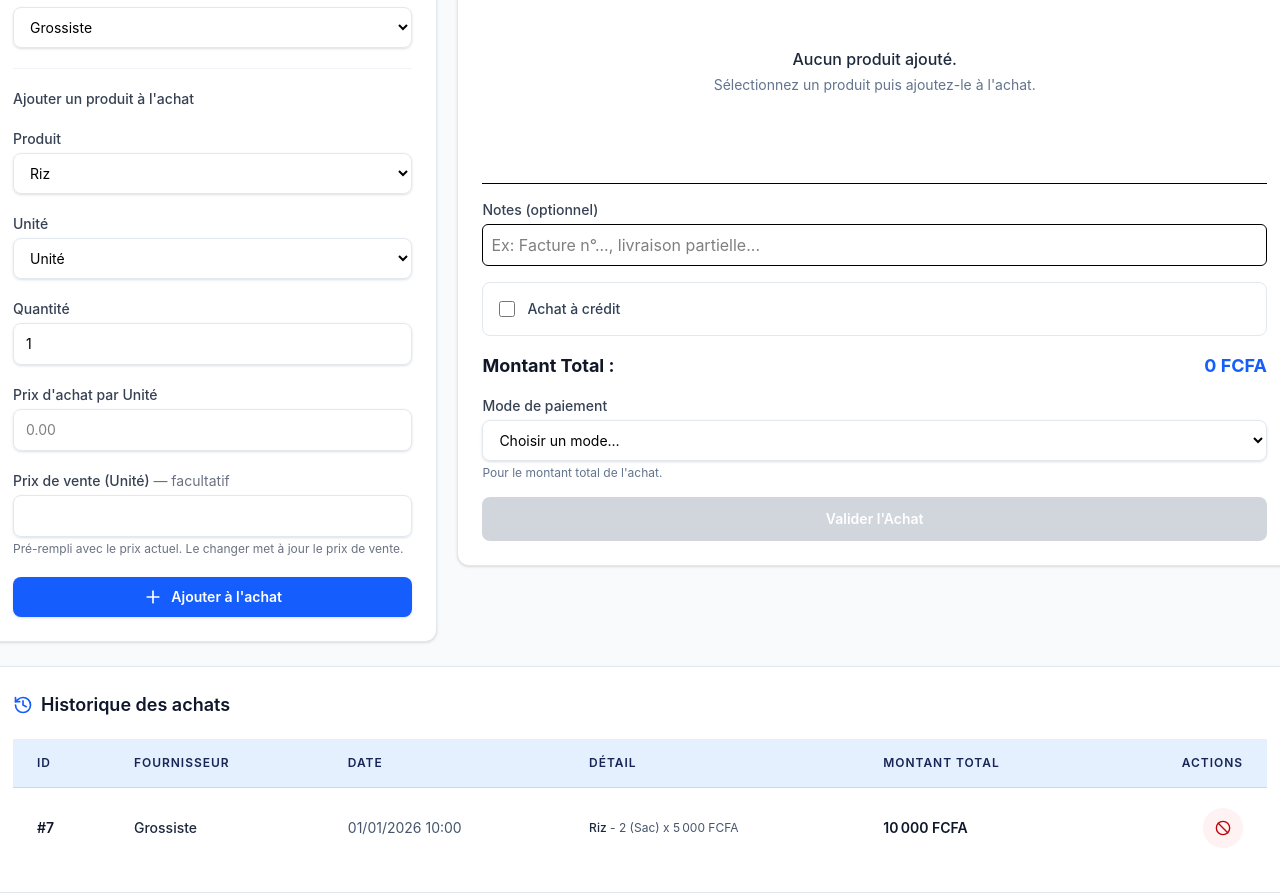
Test: Achats : enregistrement et annulation refusés après l’expiration › annulation : message en haut, sans alert(), liste non rechargée, bouton revenu à son état normal
The width and height of the screenshot is (1280, 893).
(page scrolled)
Click the button named "Annuler l'achat #7" at (1223, 828), box 1203,808 -> 1243,848
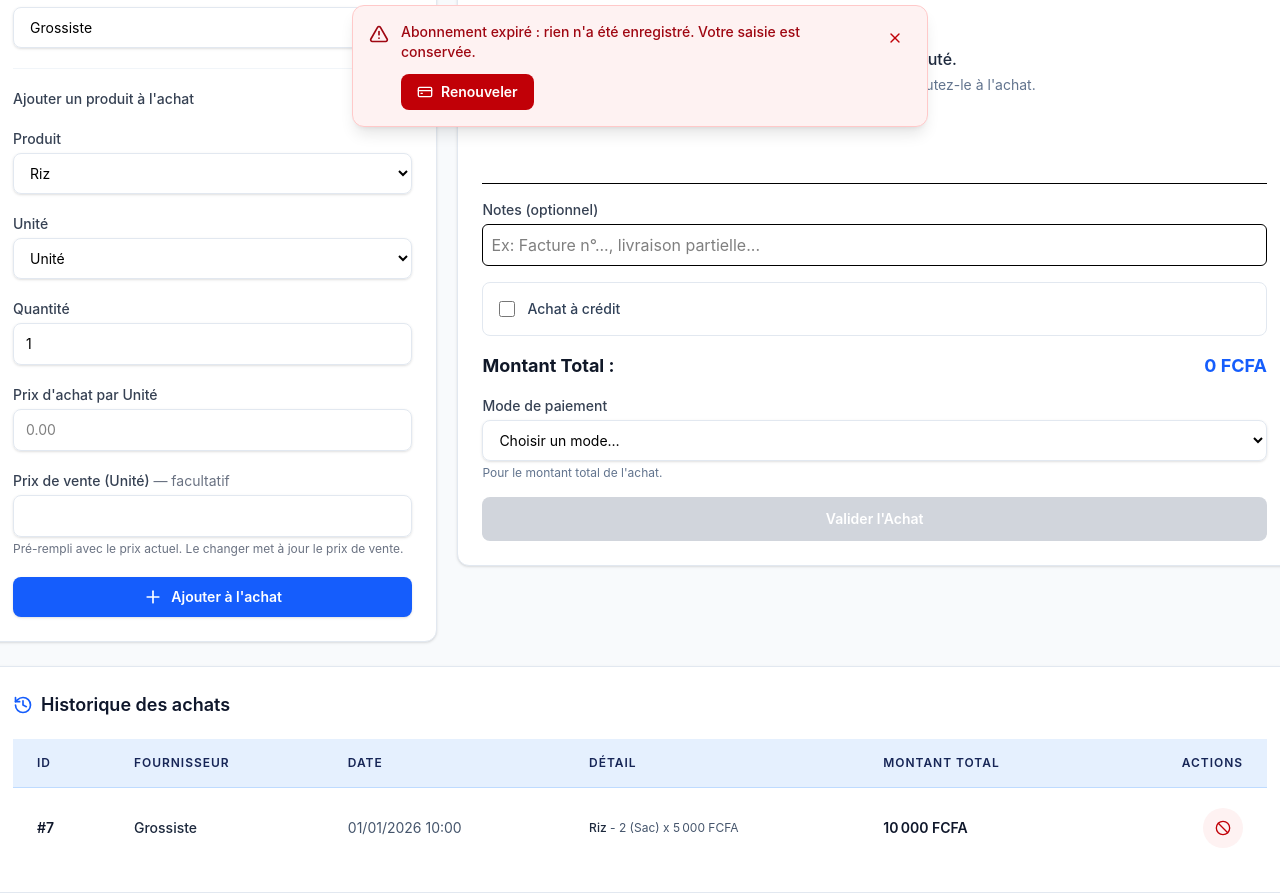
Expected: the message shows "Abonnement expiré : rien n'a été enregistré. Votre saisie est conservée.", 401,23 -> 800,60
